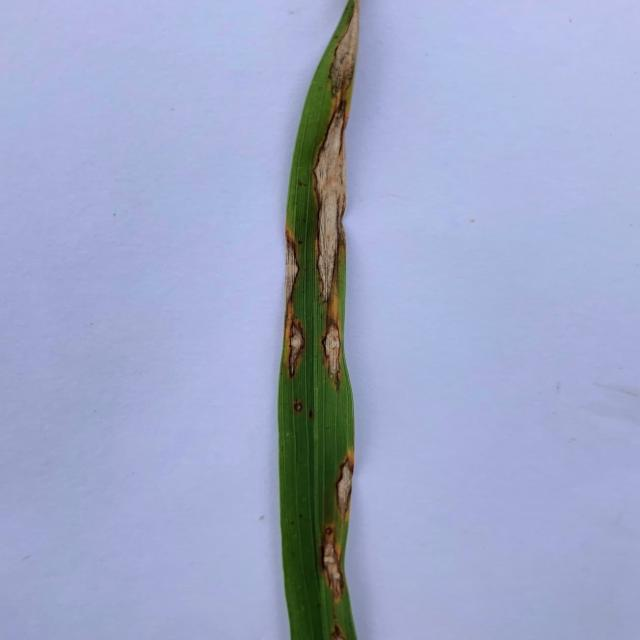leaf blast: (311, 100, 348, 304), (328, 0, 371, 96), (320, 526, 344, 604), (322, 320, 342, 392), (335, 449, 353, 525), (282, 232, 300, 304), (286, 320, 304, 378), (331, 622, 346, 640), (295, 399, 303, 412)
